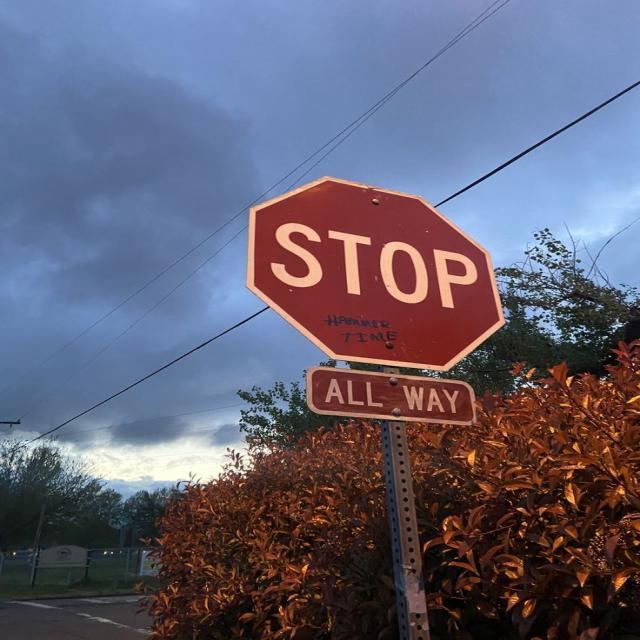stop: (244, 174, 506, 372)
